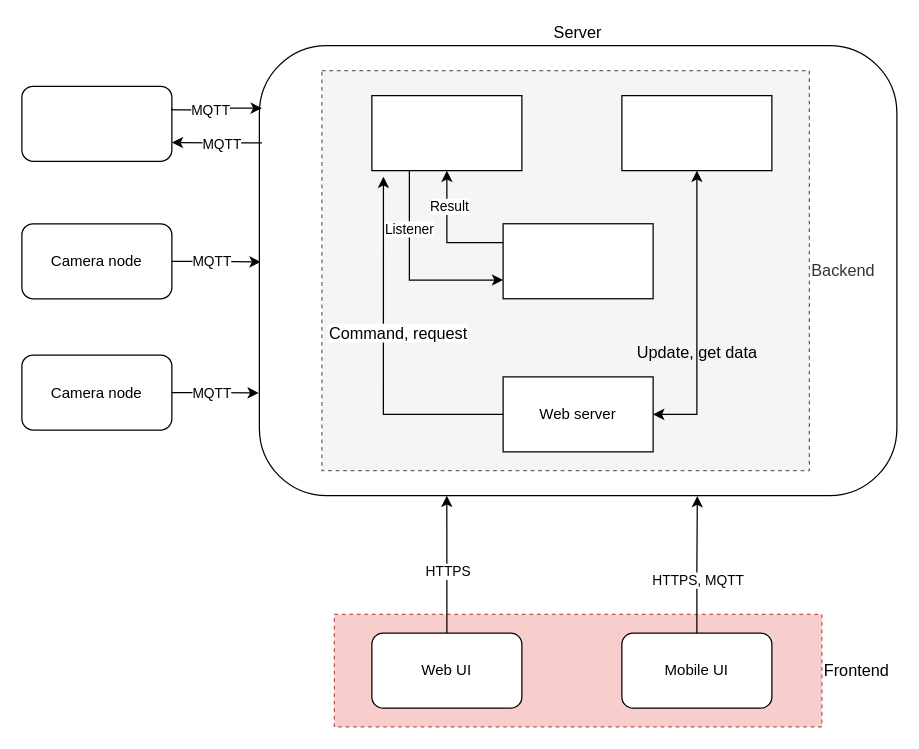
Some shapes in this 919 by 749 pixel diagram are drawn without their labels. The shapes that lost their labels are listed below. From the top down, each one's centre as x and y in pixels, then its label:
point (96, 123): Yolo:bit
point (446, 132): MQTT broker
point (696, 132): SQL database
point (577, 260): AI model
